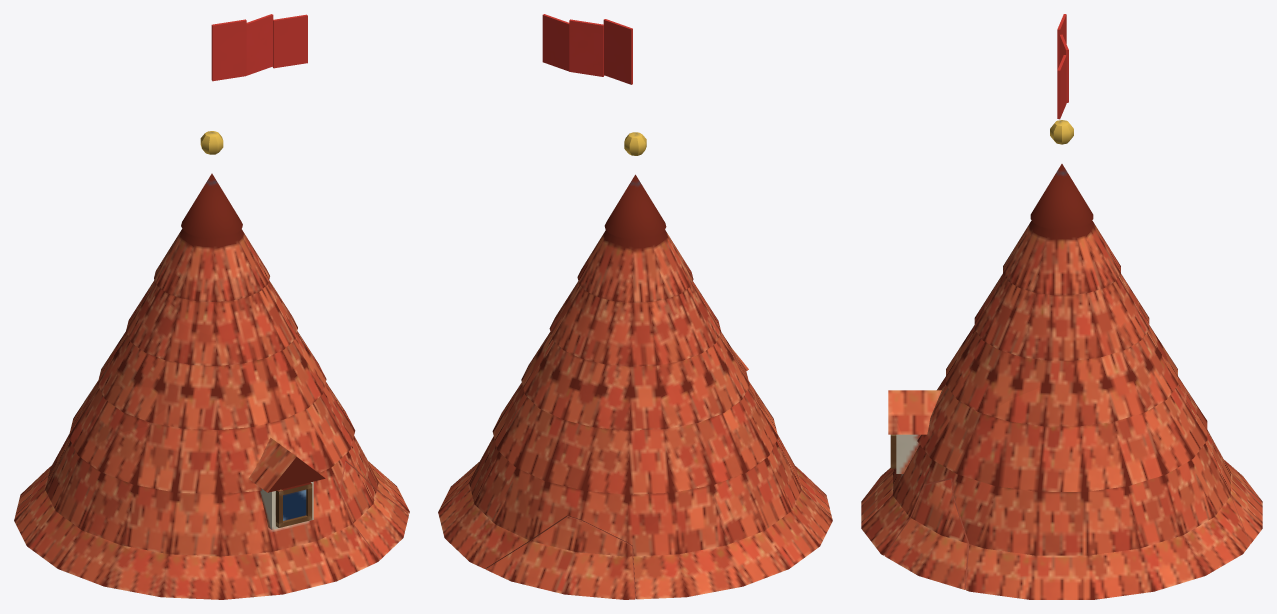
File: Kit_Keep_TurretRoof_Fractured.fbx
3 renders of one model, left to right at view 1: azimuth 30°, elevation 25°; view 2: azimuth 150°, elevation 25°; view 3: azimuth 270°, elevation 25°, orthographic. The views are drawn at different scales.
Visible parts, largest first — view 1: Kit_Keep_TurretRoof_frag_06, Kit_Keep_TurretRoof_frag_01, Kit_Keep_TurretRoof_frag_11, Kit_Keep_TurretRoof_frag_08, Kit_Keep_TurretRoof_frag_12, Kit_Keep_TurretRoof_frag_09, Kit_Keep_TurretRoof_frag_03, Kit_Keep_TurretRoof_frag_05; view 2: Kit_Keep_TurretRoof_frag_11, Kit_Keep_TurretRoof_frag_01, Kit_Keep_TurretRoof_frag_09, Kit_Keep_TurretRoof_frag_07, Kit_Keep_TurretRoof_frag_04, Kit_Keep_TurretRoof_frag_02, Kit_Keep_TurretRoof_frag_06, Kit_Keep_TurretRoof_frag_08, Kit_Keep_TurretRoof_frag_05; view 3: Kit_Keep_TurretRoof_frag_05, Kit_Keep_TurretRoof_frag_01, Kit_Keep_TurretRoof_frag_11, Kit_Keep_TurretRoof_frag_04, Kit_Keep_TurretRoof_frag_03, Kit_Keep_TurretRoof_frag_08, Kit_Keep_TurretRoof_frag_12, Kit_Keep_TurretRoof_frag_02.
Part boxes in pixels (x1,y1,x2,y2): Kit_Keep_TurretRoof_frag_06: (49,422,312,599); Kit_Keep_TurretRoof_frag_01: (152,14,307,340); Kit_Keep_TurretRoof_frag_11: (97,280,323,400); Kit_Keep_TurretRoof_frag_08: (80,385,345,491); Kit_Keep_TurretRoof_frag_12: (252,468,379,595); Kit_Keep_TurretRoof_frag_09: (14,423,83,561); Kit_Keep_TurretRoof_frag_03: (339,461,408,559); Kit_Keep_TurretRoof_frag_05: (302,338,409,513); Kit_Keep_TurretRoof_frag_11: (538,295,731,432); Kit_Keep_TurretRoof_frag_01: (542,14,701,311); Kit_Keep_TurretRoof_frag_09: (633,463,810,599); Kit_Keep_TurretRoof_frag_07: (564,419,715,546); Kit_Keep_TurretRoof_frag_04: (440,401,567,568); Kit_Keep_TurretRoof_frag_02: (485,516,635,599); Kit_Keep_TurretRoof_frag_06: (732,348,832,552); Kit_Keep_TurretRoof_frag_08: (686,342,749,465); Kit_Keep_TurretRoof_frag_05: (438,334,548,520); Kit_Keep_TurretRoof_frag_05: (951,379,1171,599); Kit_Keep_TurretRoof_frag_01: (984,14,1123,336); Kit_Keep_TurretRoof_frag_11: (958,276,1177,420); Kit_Keep_TurretRoof_frag_04: (1158,384,1249,585); Kit_Keep_TurretRoof_frag_03: (885,478,969,589); Kit_Keep_TurretRoof_frag_08: (893,344,979,484); Kit_Keep_TurretRoof_frag_12: (861,411,924,555); Kit_Keep_TurretRoof_frag_02: (1216,447,1262,544).
Size of what is drawn, in the model's own units: 3.52 by 4.85 by 3.52.
Materials: 2 (2 with a texture image).
